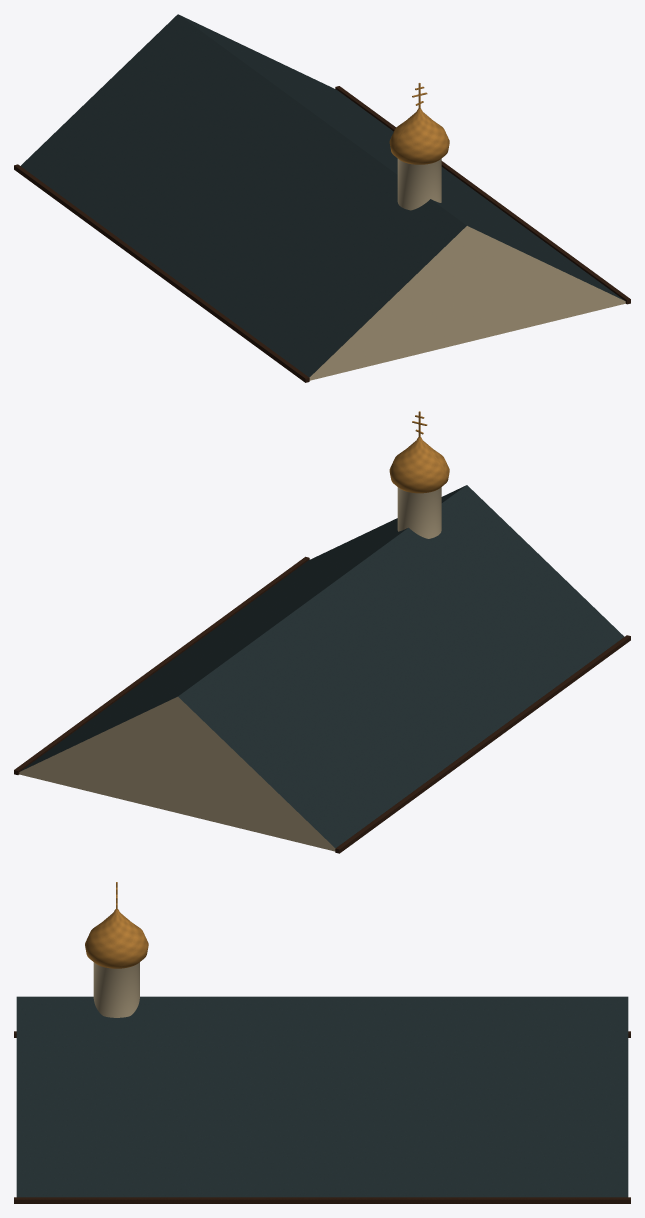
The model's file is church_roof.glb.
The picture shows the model from 3 angles, top to bottom: view 1: azimuth 30°, elevation 25°; view 2: azimuth 150°, elevation 25°; view 3: azimuth 270°, elevation 25°; orthographic projection. The views are drawn at different scales.
Parts seen in each view (by area): view 1: RoofBody, Eave, CopperDome, Drum, Eave.001; view 2: RoofBody, Eave, CopperDome, Eave.001, Drum; view 3: RoofBody, Eave.001, CopperDome, Drum.
Boxes of the visible parts, bbox=[...] form: RoofBody: bbox=[21, 14, 625, 380]; Eave: bbox=[14, 164, 309, 382]; CopperDome: bbox=[389, 108, 449, 164]; Drum: bbox=[397, 159, 441, 210]; Eave.001: bbox=[335, 86, 630, 304]; RoofBody: bbox=[19, 485, 624, 851]; Eave: bbox=[335, 635, 630, 853]; CopperDome: bbox=[389, 437, 449, 493]; Eave.001: bbox=[14, 556, 309, 774]; Drum: bbox=[397, 487, 441, 538]; RoofBody: bbox=[16, 996, 628, 1197]; Eave.001: bbox=[14, 1197, 630, 1203]; CopperDome: bbox=[85, 909, 148, 968]; Drum: bbox=[93, 962, 139, 1017].
Bounding box in the file's own units: 7.74 × 5.1 × 12.
4 materials, 4 textured.
